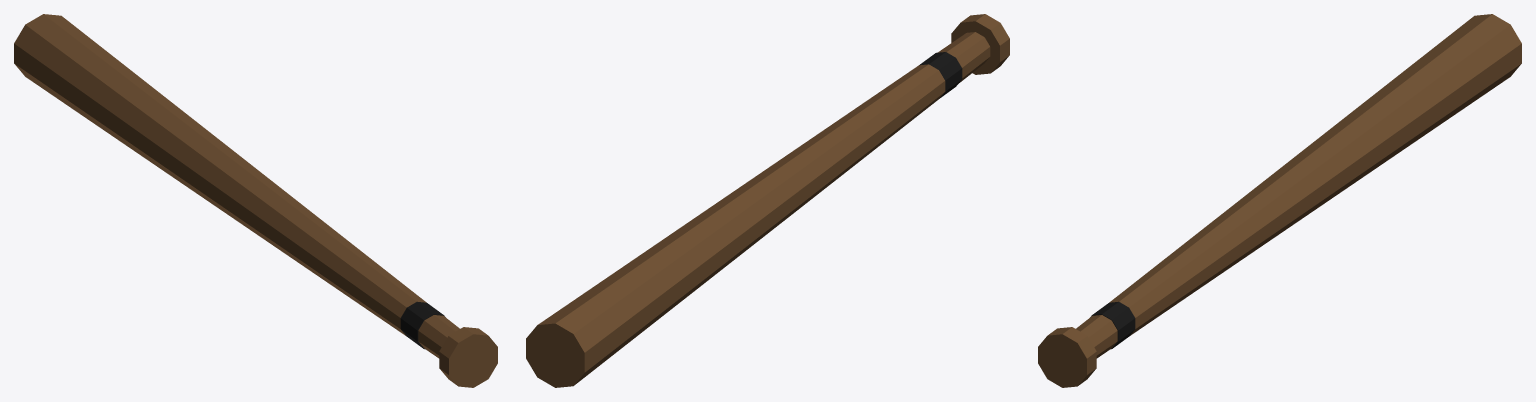
Rendered from bat_w0.glb.
3 renders of one model, left to right at view 1: azimuth 30°, elevation 25°; view 2: azimuth 150°, elevation 25°; view 3: azimuth 330°, elevation 25°, orthographic.
Parts seen in each view (by area): view 1: bat_w0; view 2: bat_w0; view 3: bat_w0.
Part boxes in pixels (left/top/right/bottom): bat_w0: left=14, top=14, right=497, bottom=387; bat_w0: left=526, top=14, right=1009, bottom=387; bat_w0: left=1038, top=14, right=1521, bottom=387.
Bounding box in the file's own units: 0.0685 × 0.072 × 0.87.
